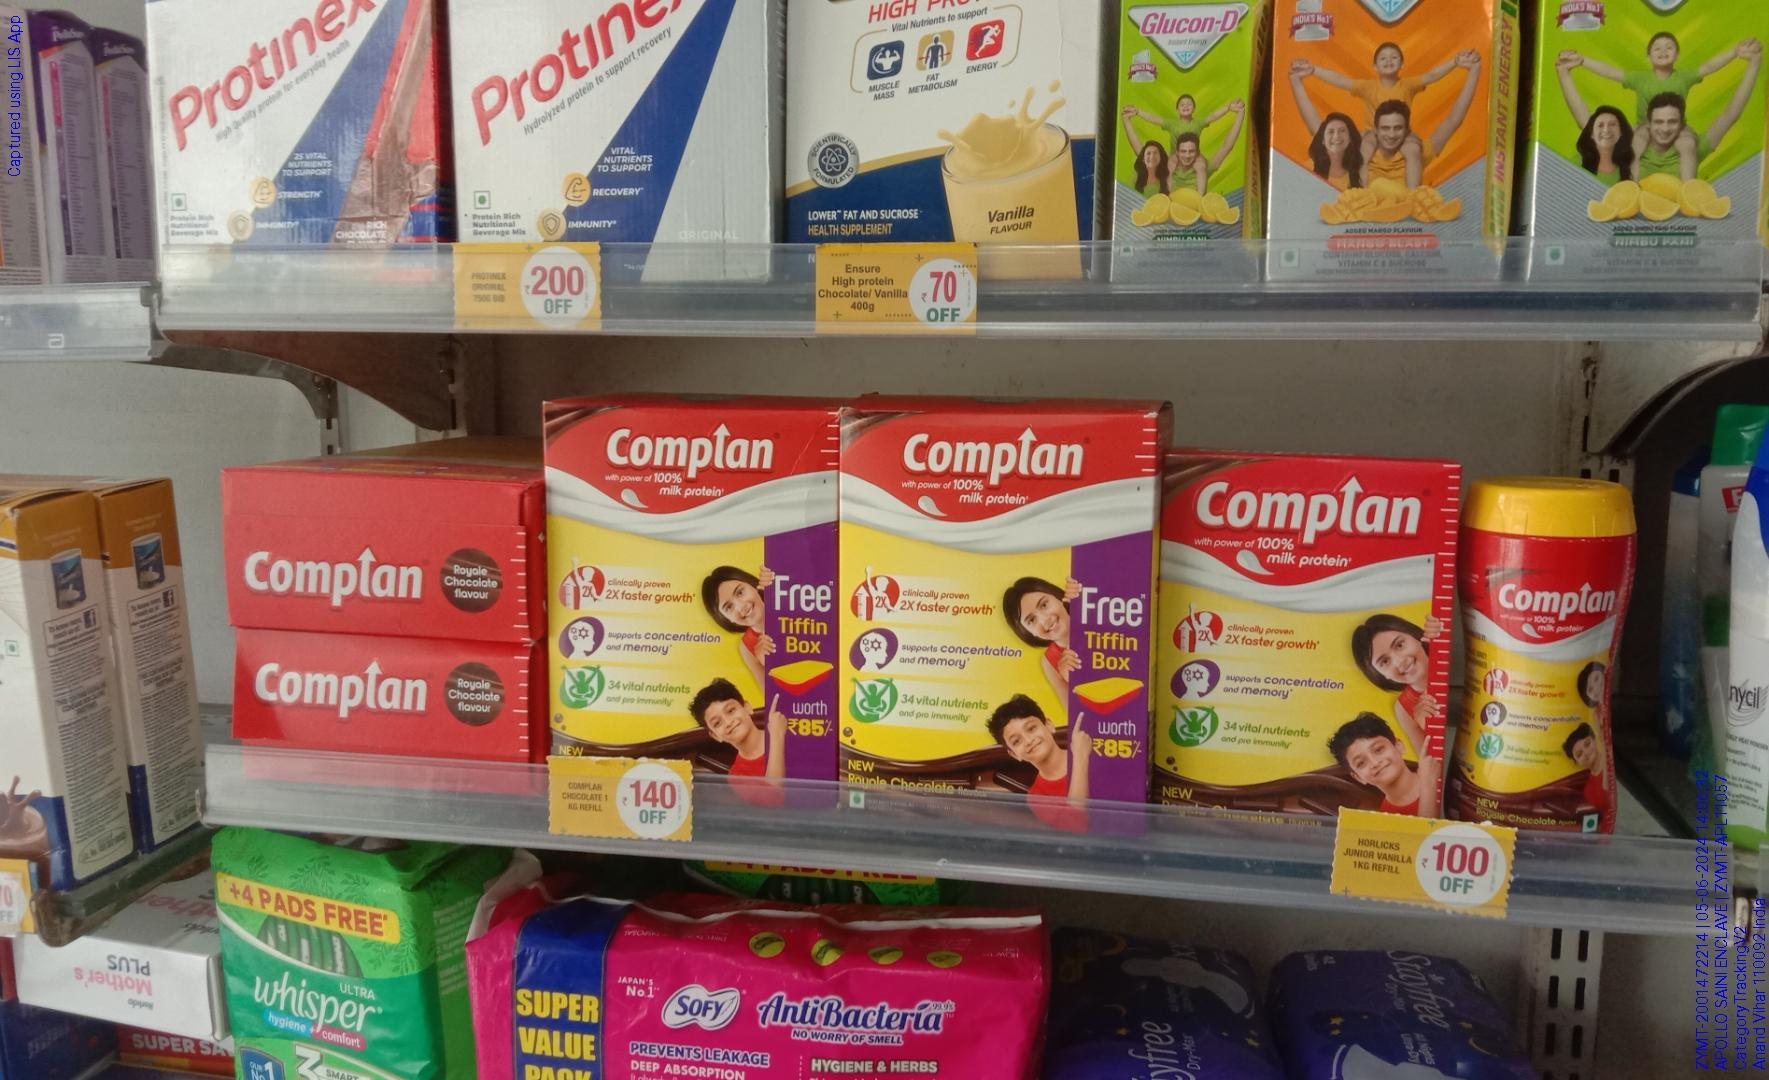COMPLAN_CHOCOLATE_200_GMS_PACK: (1166, 457, 1451, 822)
COMPLAN_CHOCOLATE_500_GMS_JAR: (1463, 466, 1631, 834)
COMPLAN_CHOCOLATE_500_GMS_PACK: (843, 402, 1156, 840), (542, 397, 834, 788)
